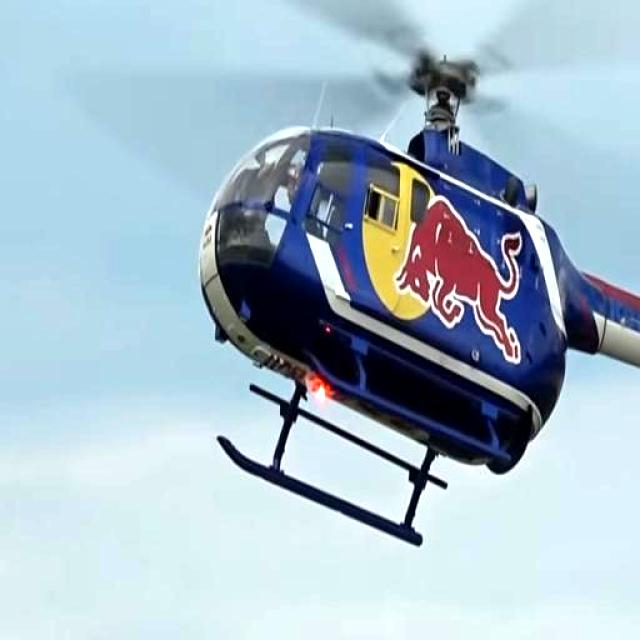drone: (144, 0, 640, 580)
